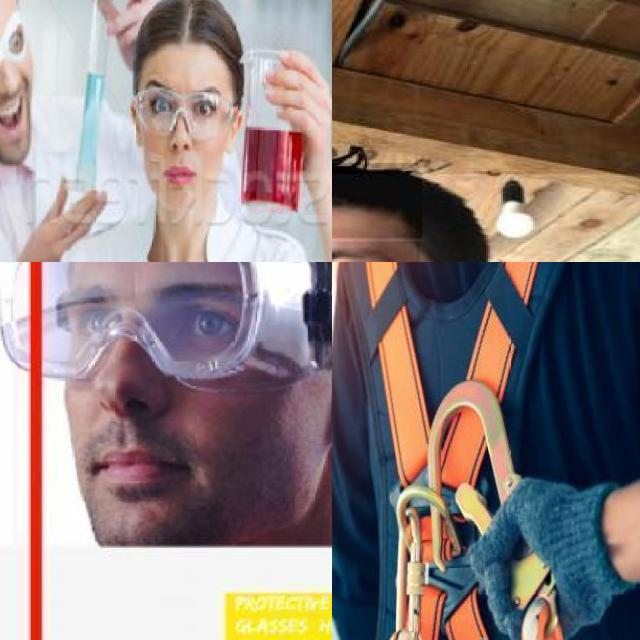Harness: (365, 262, 540, 640)
face_nomask: (48, 288, 245, 504), (147, 92, 225, 186), (0, 22, 38, 140)
glasses: (0, 262, 332, 388), (133, 87, 237, 143), (0, 14, 33, 88)
hand_noglove: (17, 171, 110, 262), (259, 47, 332, 136), (81, 0, 163, 65)
head_nohelmet: (139, 0, 244, 65), (332, 163, 422, 238)
person: (34, 0, 332, 262), (0, 0, 121, 262), (332, 174, 640, 262)
